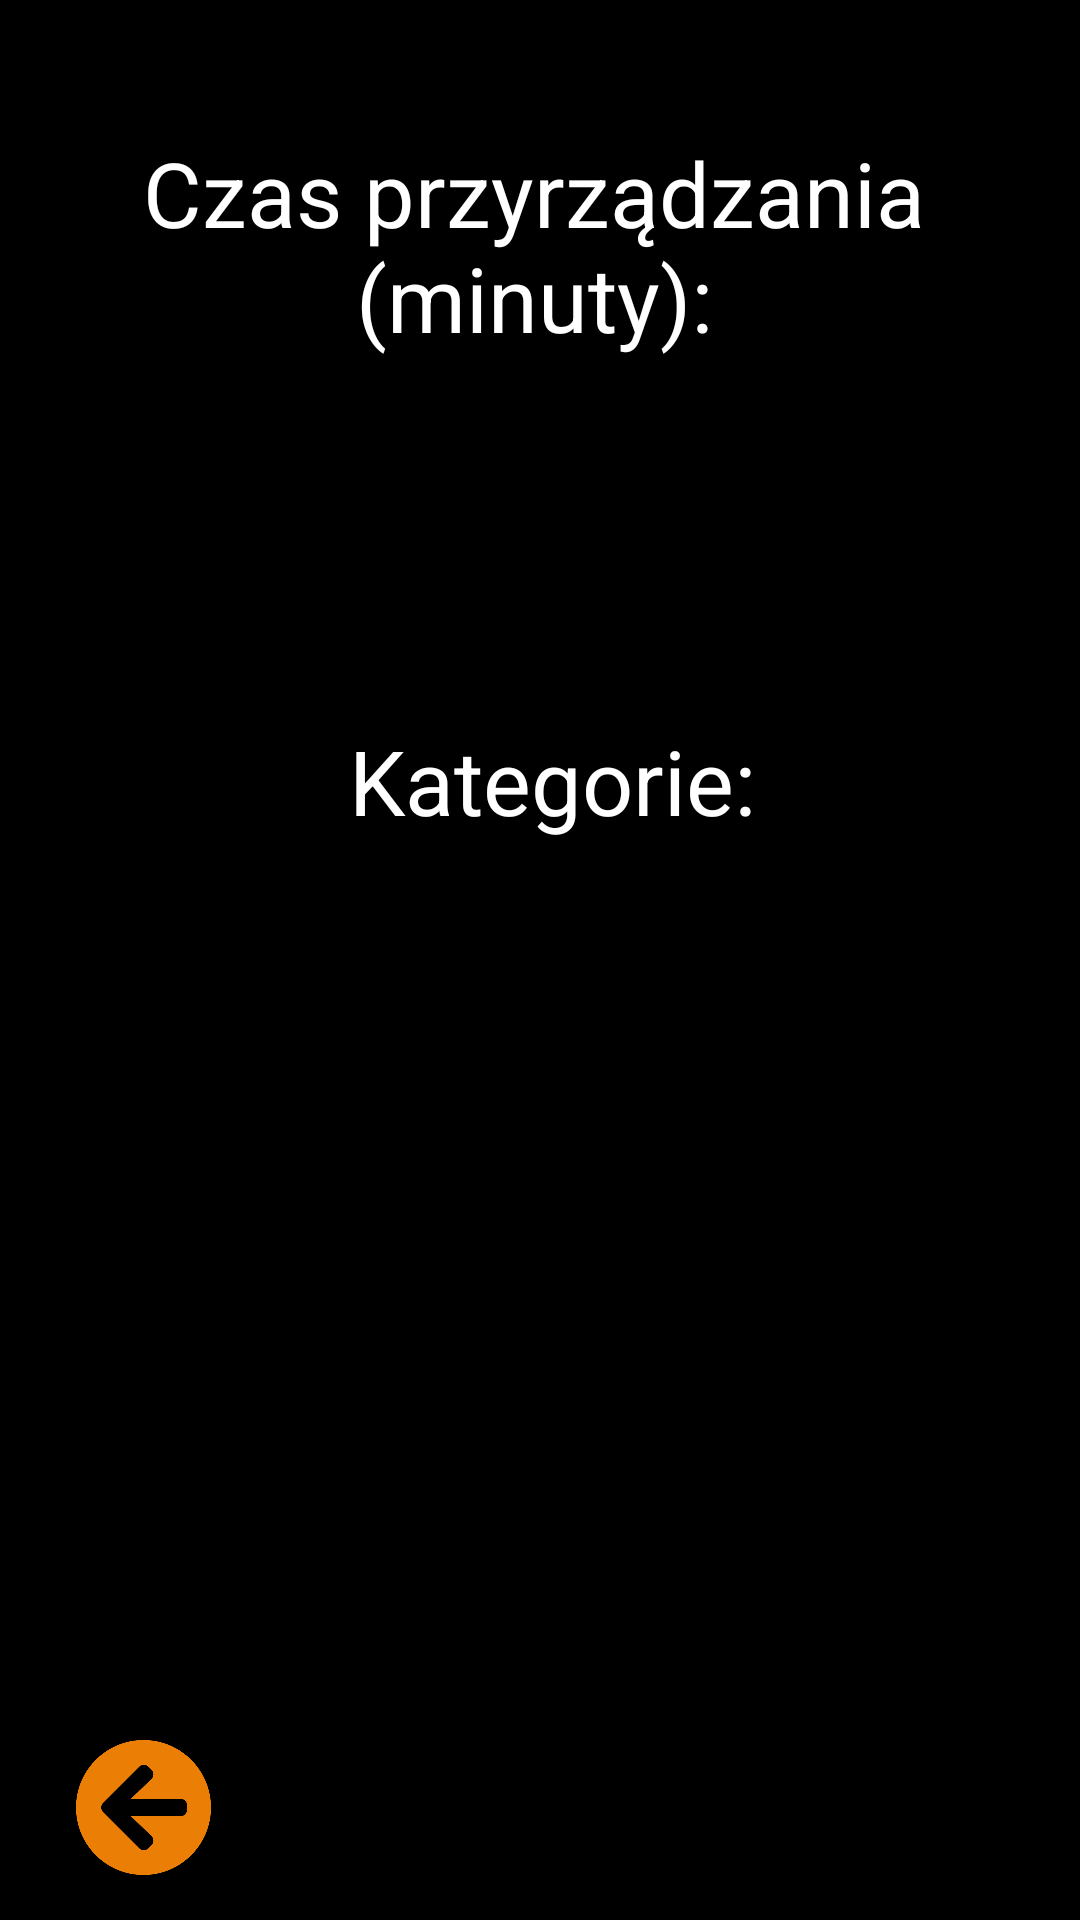

Icon click points for this 1080px x 1920px phone screenshot, format [x,y]:
back: [143,1807]
